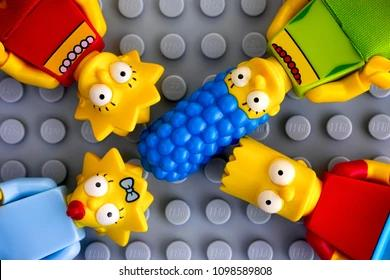Bart: (219, 133, 388, 259)
Lisa: (0, 0, 170, 143)
Maggie: (0, 152, 159, 258)
Marge: (144, 2, 390, 168)
